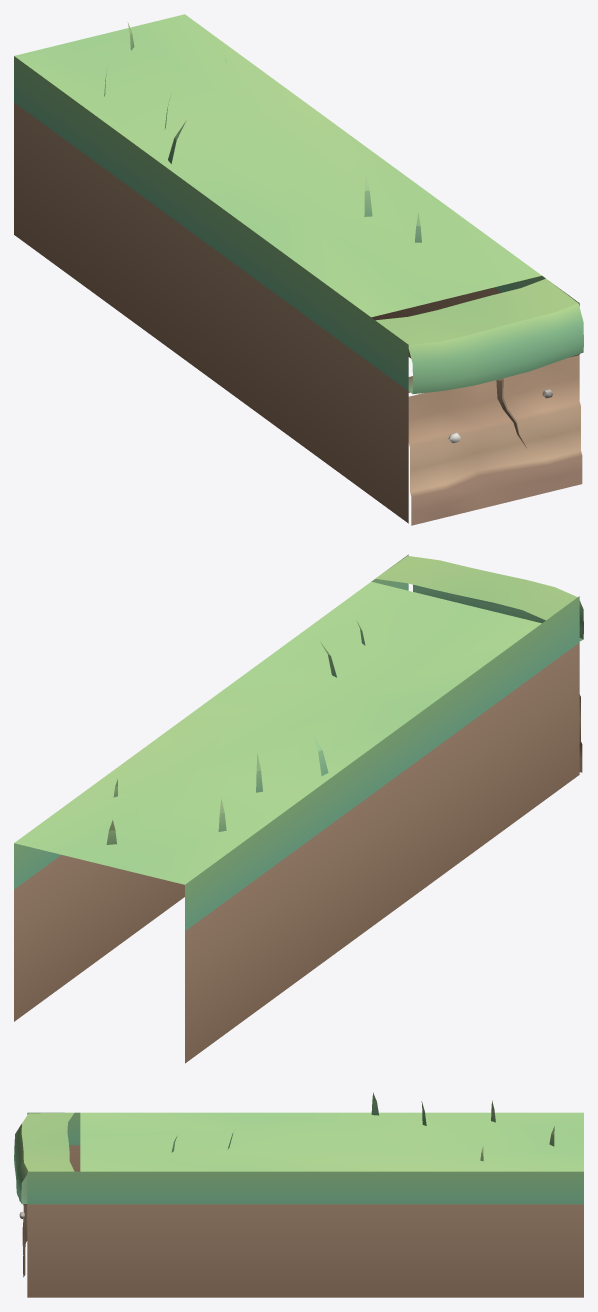
File: groundlite_grass_3.glb
3 views of the same model, one above another, from view 1: azimuth 30°, elevation 25°; view 2: azimuth 150°, elevation 25°; view 3: azimuth 270°, elevation 25° (orthographic). The views are drawn at different scales.
Parts seen in each view (by area): view 1: groundlite_grass_3; view 2: groundlite_grass_3; view 3: groundlite_grass_3.
Part boxes in pixels (left/top/right/bottom): groundlite_grass_3: left=14, top=14, right=583, bottom=525; groundlite_grass_3: left=14, top=554, right=583, bottom=1063; groundlite_grass_3: left=14, top=1092, right=583, bottom=1297.
Size of the model in its own units: 1 by 1.23 by 4.1.
